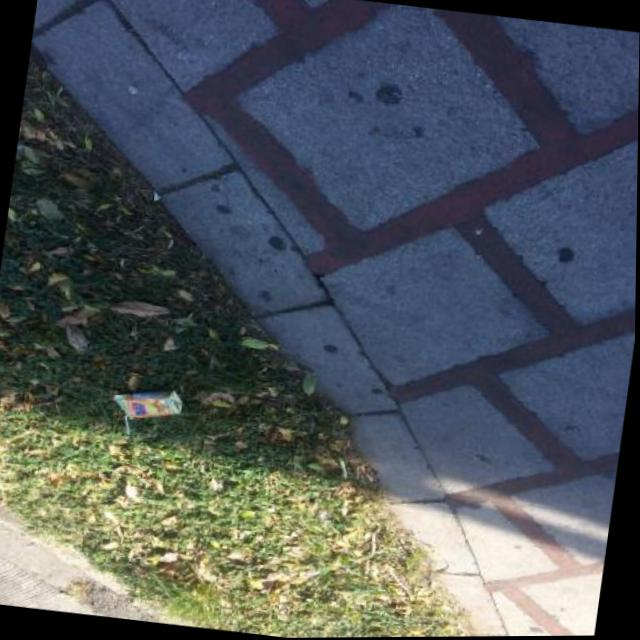cardboard: (107, 383, 187, 441)
